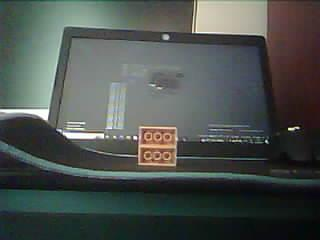lego: (138, 126, 177, 167)
